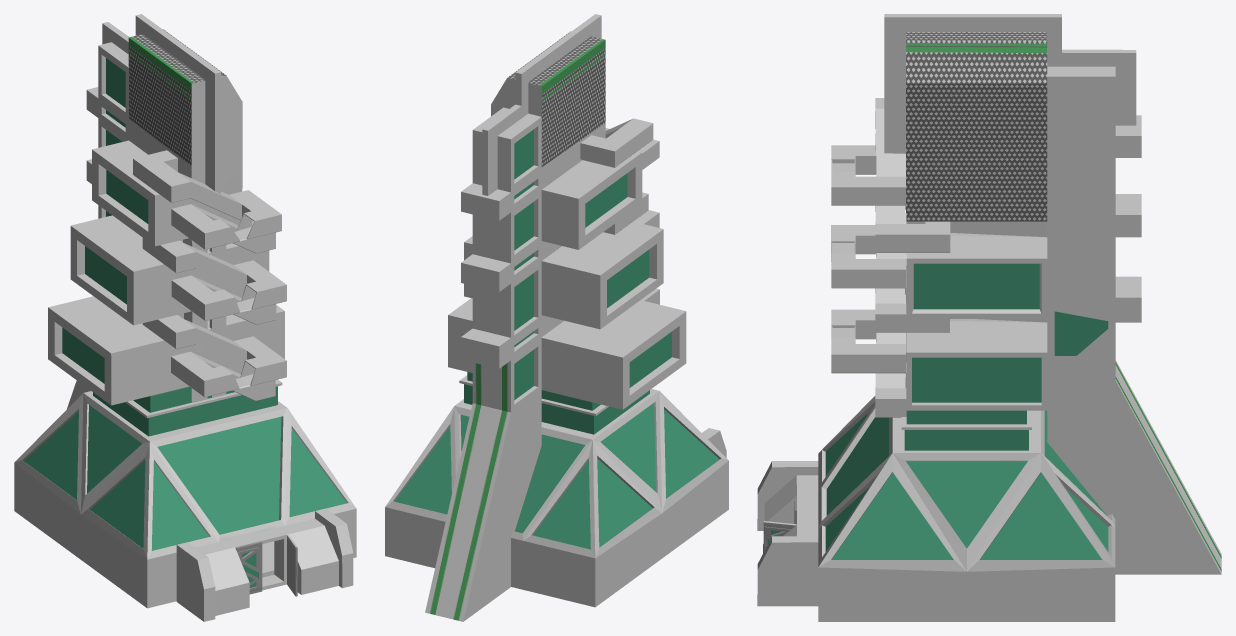
File: SM_Building_06.fbx
3 renders of one model, left to right at view 1: azimuth 30°, elevation 25°; view 2: azimuth 150°, elevation 25°; view 3: azimuth 270°, elevation 25°, orthographic. The views are drawn at different scales.
Visible parts, largest first — view 1: SM_Building_06_LOD0; view 2: SM_Building_06_LOD0; view 3: SM_Building_06_LOD0.
Part boxes in pixels (x1,y1,x2,y2): SM_Building_06_LOD0: [14, 14, 356, 621]; SM_Building_06_LOD0: [385, 14, 728, 621]; SM_Building_06_LOD0: [757, 14, 1221, 621].
Size of the model in its own units: 1231 by 2115 by 2756.
Materials: 1 (1 with a texture image).
